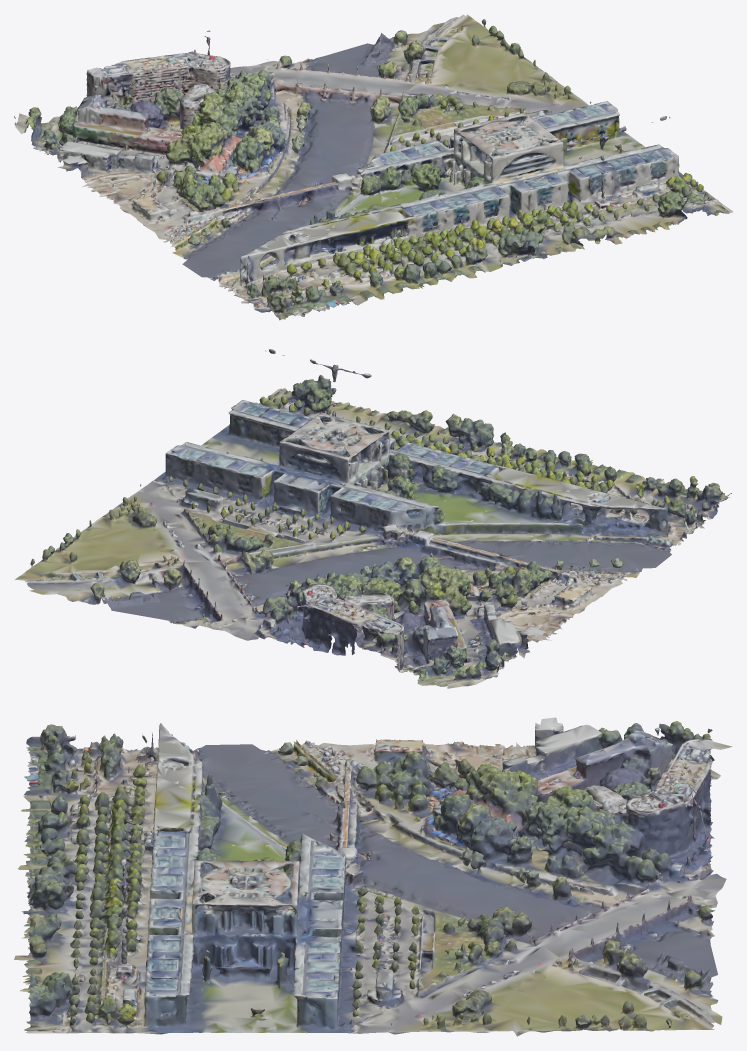
File: surface-detail-3890_58200.glb
The picture shows the model from 3 angles, top to bottom: view 1: azimuth 30°, elevation 25°; view 2: azimuth 150°, elevation 25°; view 3: azimuth 270°, elevation 25°; orthographic projection. The views are drawn at different scales.
Parts seen in each view (by area): view 1: world; view 2: world; view 3: world.
Part boxes in pixels (<box>): world: <box>14,14,732,320</box>; world: <box>14,349,731,688</box>; world: <box>14,717,732,1036</box>.
Bounding box in the file's own units: 372 × 62.54 × 381.
